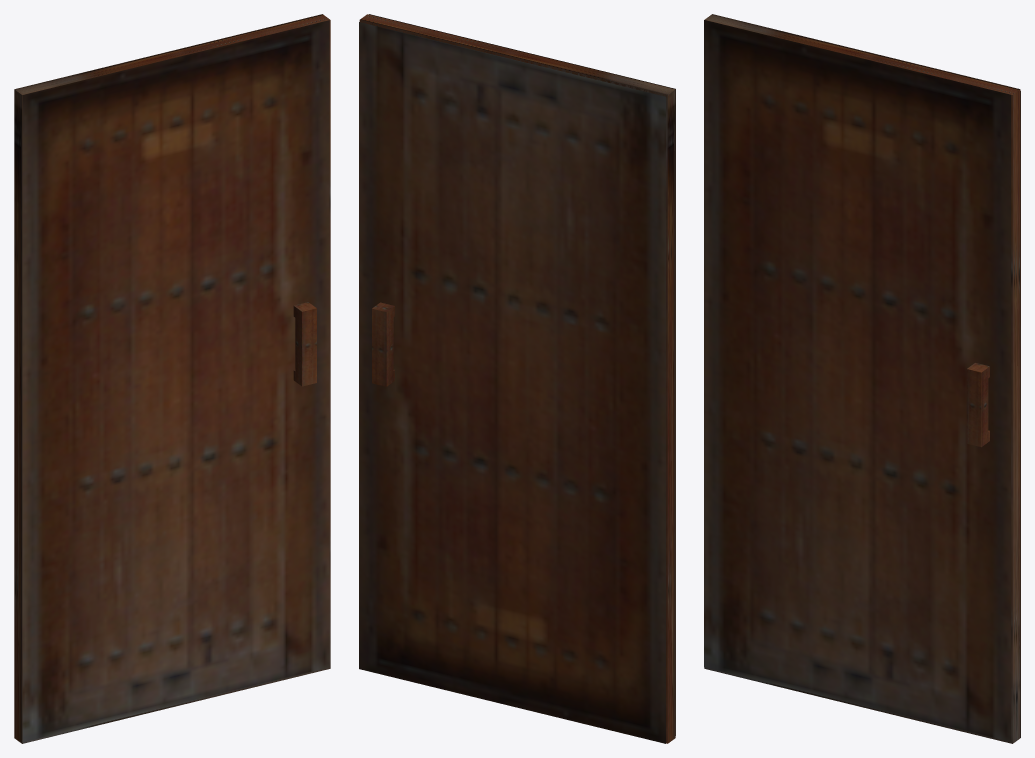
File: build7adoor1.gltf
3 renders of one model, left to right at view 1: azimuth 30°, elevation 25°; view 2: azimuth 150°, elevation 25°; view 3: azimuth 330°, elevation 25°, orthographic.
Parts seen in each view (by area): view 1: build7adoor1; view 2: build7adoor1; view 3: build7adoor1.
Part boxes in pixels (box(x1,y1,x2,y2)): build7adoor1: box(14, 14, 330, 743); build7adoor1: box(359, 14, 675, 743); build7adoor1: box(704, 14, 1020, 743).
Size of the model in its own units: 1.11 by 2.23 by 0.1586.
2 materials, 2 textured.
